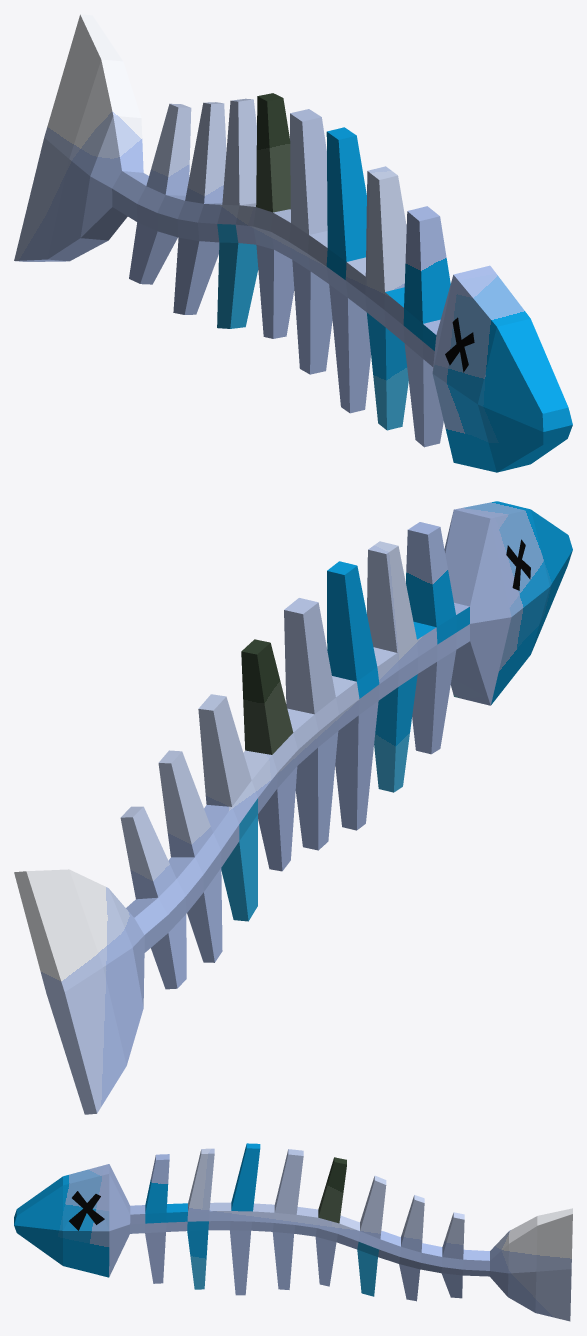
The model's file is jamikala1.fbx.
The picture shows the model from 3 angles, top to bottom: view 1: azimuth 30°, elevation 25°; view 2: azimuth 150°, elevation 25°; view 3: azimuth 270°, elevation 25°; orthographic projection. The views are drawn at different scales.
Parts seen in each view (by area): view 1: Cube; view 2: Cube; view 3: Cube.
Part boxes in pixels (x1=…): Cube: x1=14, y1=14, x2=572, y2=472; Cube: x1=14, y1=501, x2=572, y2=1114; Cube: x1=14, y1=1143, x2=572, y2=1321.
Bounding box in the file's own units: 2.48 × 26.79 × 9.7.
